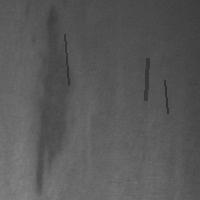inclusion: (33, 3, 76, 197), (62, 32, 70, 86), (143, 56, 149, 102), (162, 78, 169, 115)
